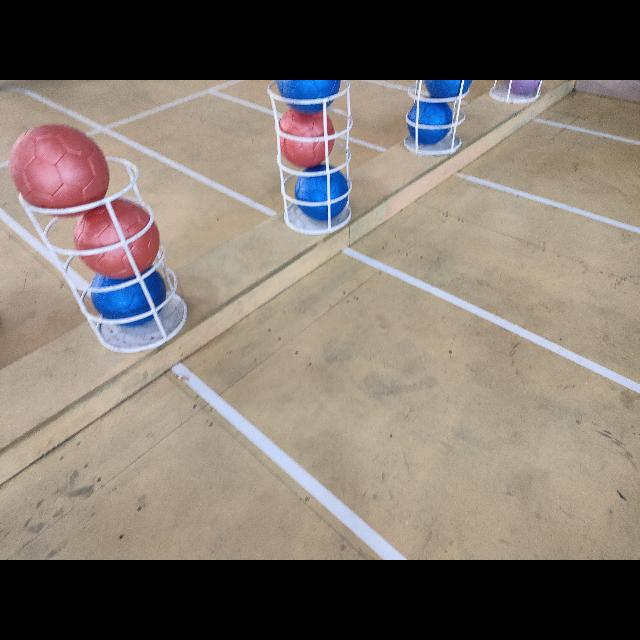B: (89, 276, 167, 326), (294, 168, 348, 220), (408, 98, 454, 144), (276, 80, 340, 112), (423, 80, 473, 98)
R: (9, 122, 109, 214), (76, 202, 160, 278), (278, 110, 336, 167)
